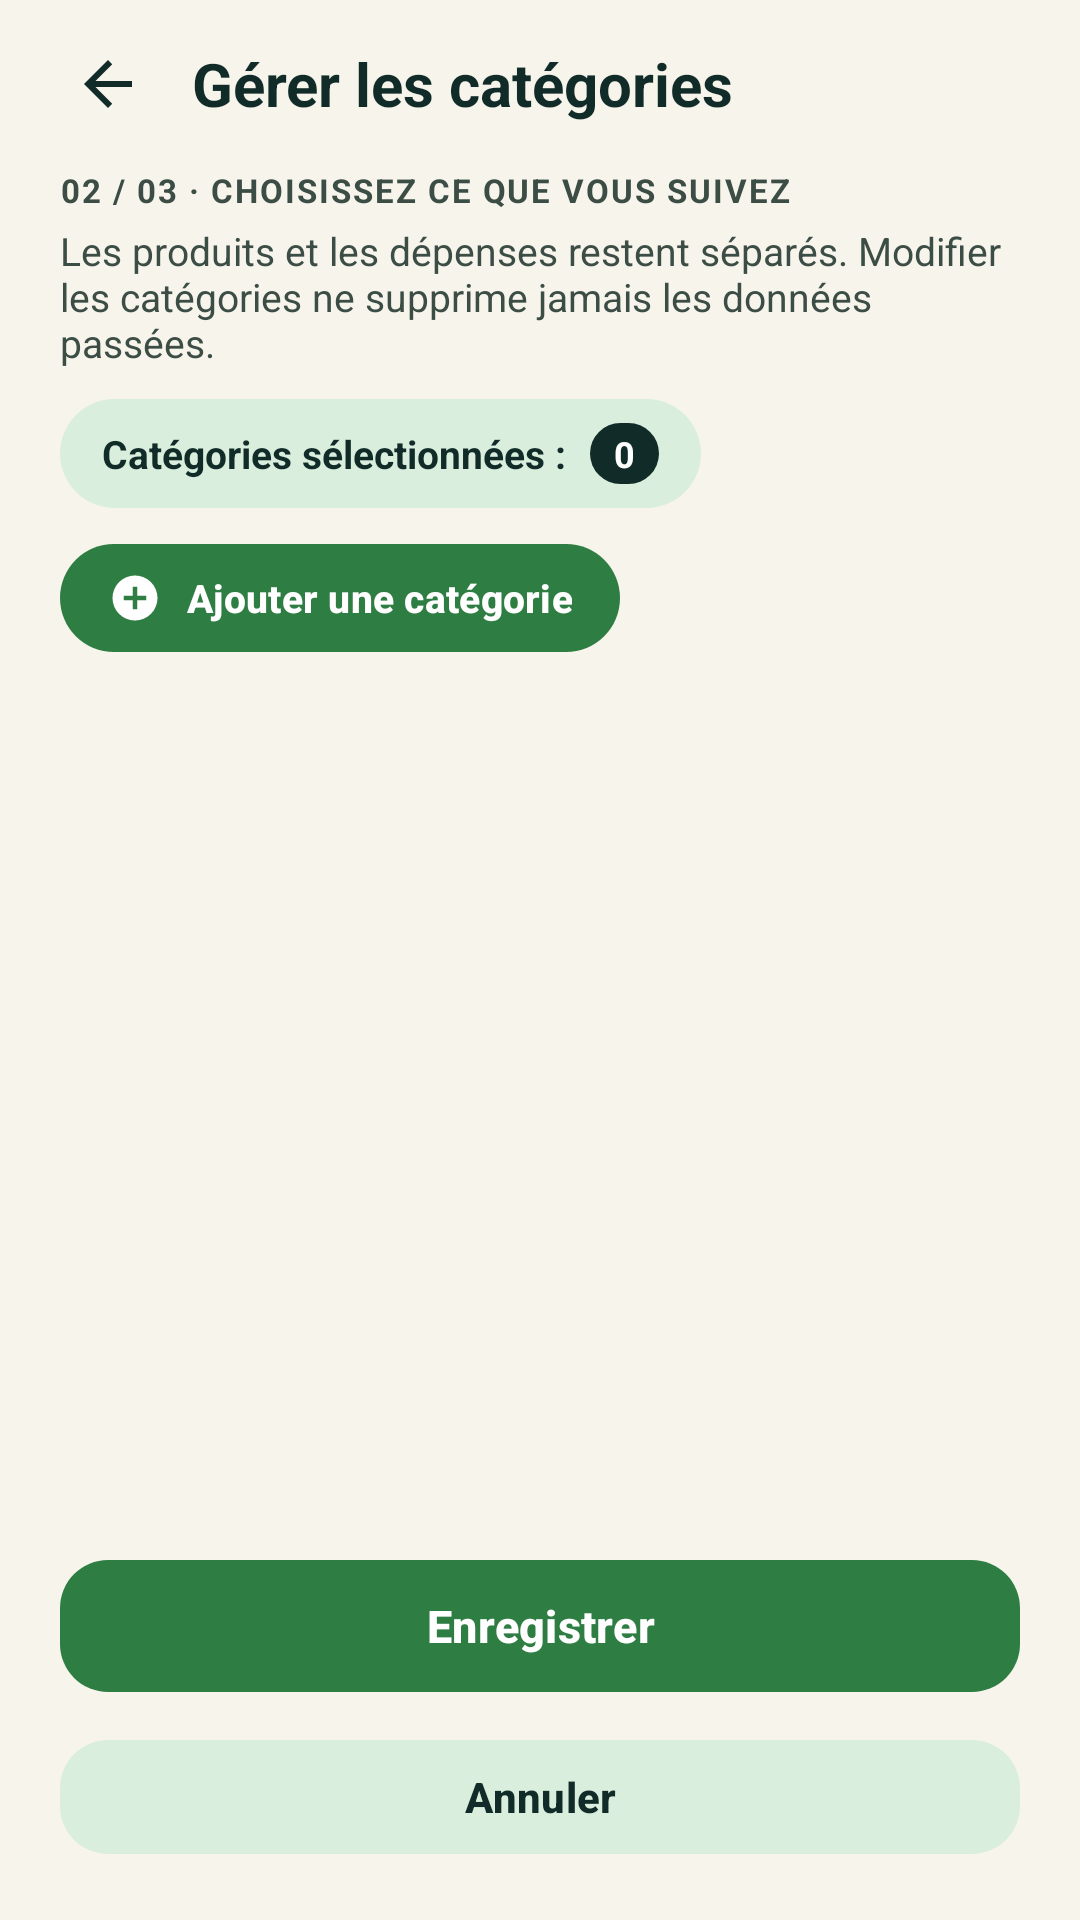

Icon bounding boxes for this 1080*1920 phone screenshot, format (x1, y1, x2, y2):
Retour: (84, 60, 132, 108)
